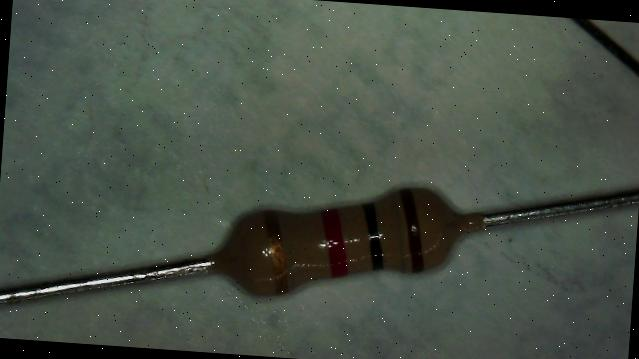black: (358, 202, 387, 271)
brown: (394, 188, 429, 272)
gold: (258, 210, 295, 294)
red: (318, 208, 351, 276)
resistor: (194, 167, 480, 316)
